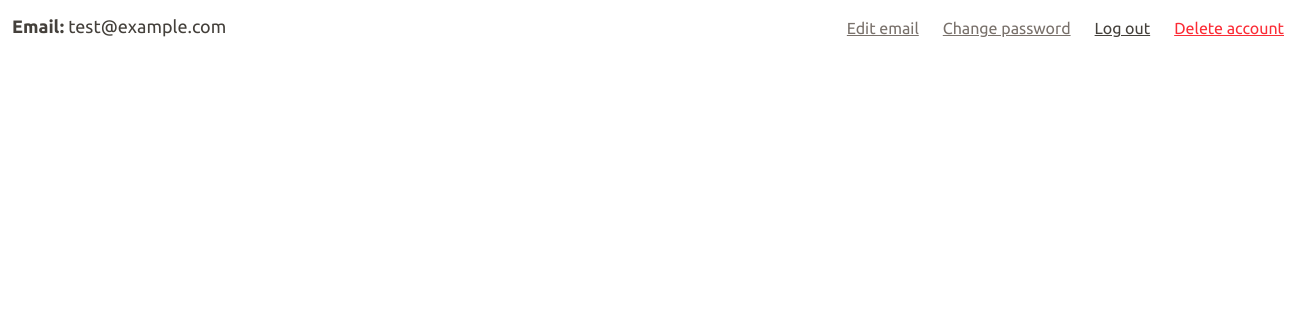
Scenario: AccountView › clicking "Change password" hides the action buttons and shows the password form
Click the button "Change password". click: {"x": 1007, "y": 28}
box: [935,12,1079,44]
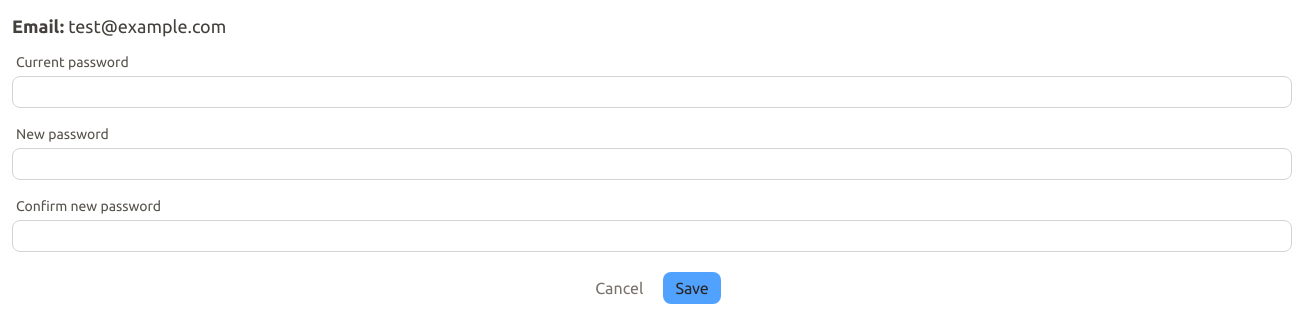
expect the button "Edit email" is gone: met
expect the button "Change password" is gone: met
expect the password field labelled "Current password" is shown: met, box [12,76,1292,108]
